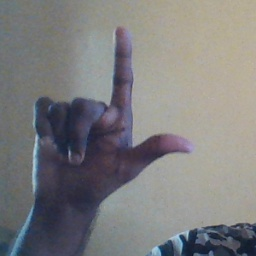L: (28, 24, 195, 214)
